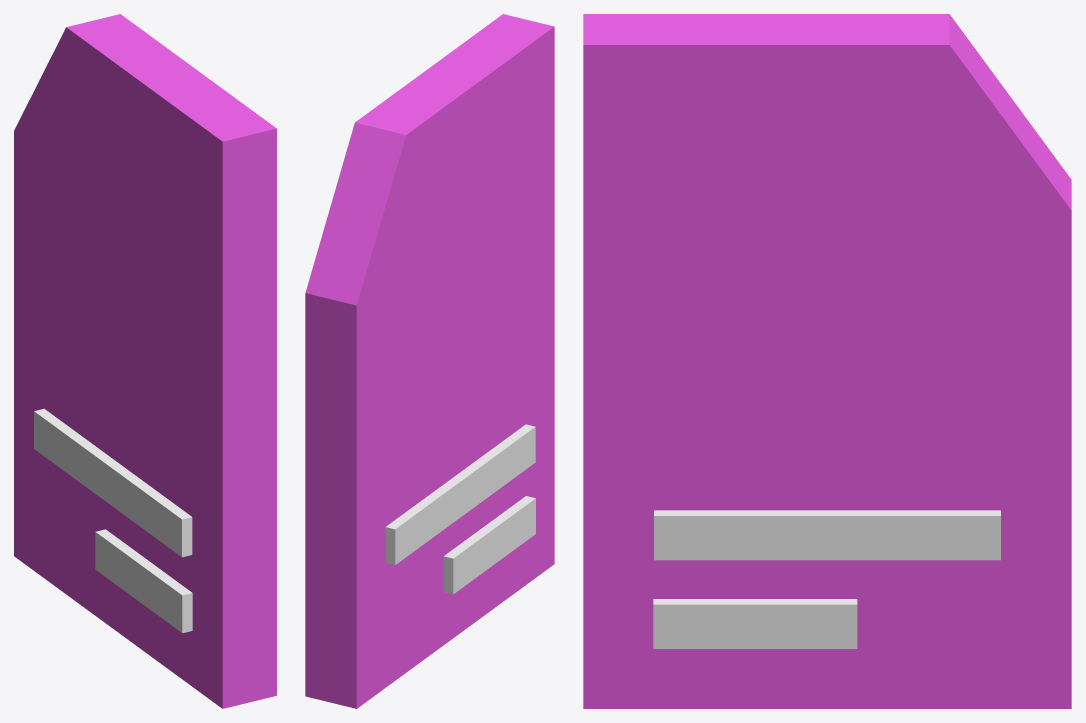
The model's file is fichier.glb.
3 renders of one model, left to right at view 1: azimuth 30°, elevation 25°; view 2: azimuth 150°, elevation 25°; view 3: azimuth 270°, elevation 25°, orthographic. The views are drawn at different scales.
Parts seen in each view (by area): view 1: Cube, Cube.001, Cube.002; view 2: Cube, Cube.001, Cube.002; view 3: Cube, Cube.001, Cube.002.
Boxes of the visible parts, x1=… form: Cube: x1=14, y1=14, x2=276, y2=708; Cube.001: x1=34, y1=408, x2=192, y2=557; Cube.002: x1=95, y1=529, x2=192, y2=633; Cube: x1=305, y1=14, x2=554, y2=708; Cube.001: x1=385, y1=424, x2=535, y2=564; Cube.002: x1=443, y1=496, x2=535, y2=594; Cube: x1=583, y1=14, x2=1071, y2=708; Cube.001: x1=654, y1=510, x2=1000, y2=560; Cube.002: x1=653, y1=599, x2=857, y2=648.
Bounding box in the file's own units: 0.4139 × 3 × 2.
